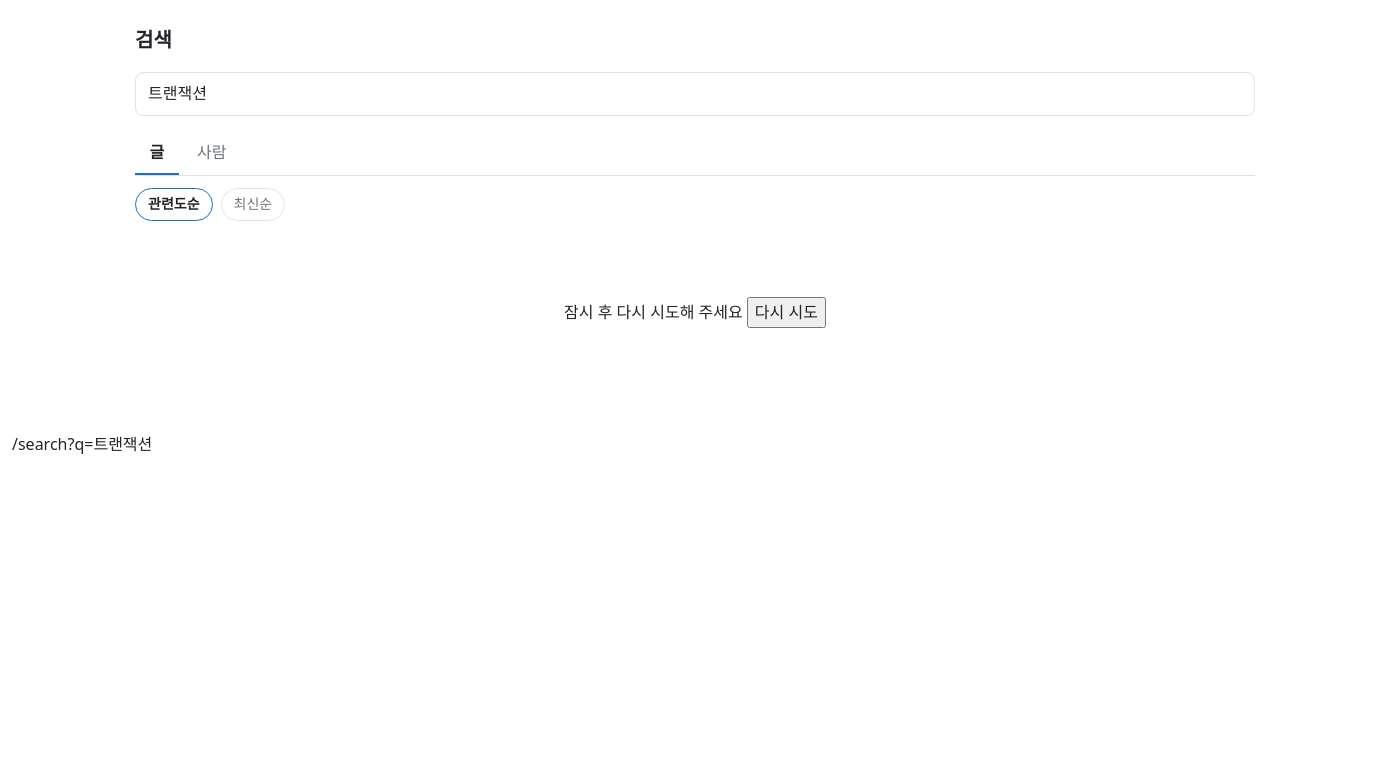
Test: SearchPage › 429면 "잠시 후 다시 시도해 주세요"와 [다시 시도]
Check: the text "잠시 후 다시 시도해 주세요 다시 시도" is shown, box [564, 297, 826, 328]
Click the button "다시 시도". click: x=786, y=312
box: [747, 297, 826, 328]
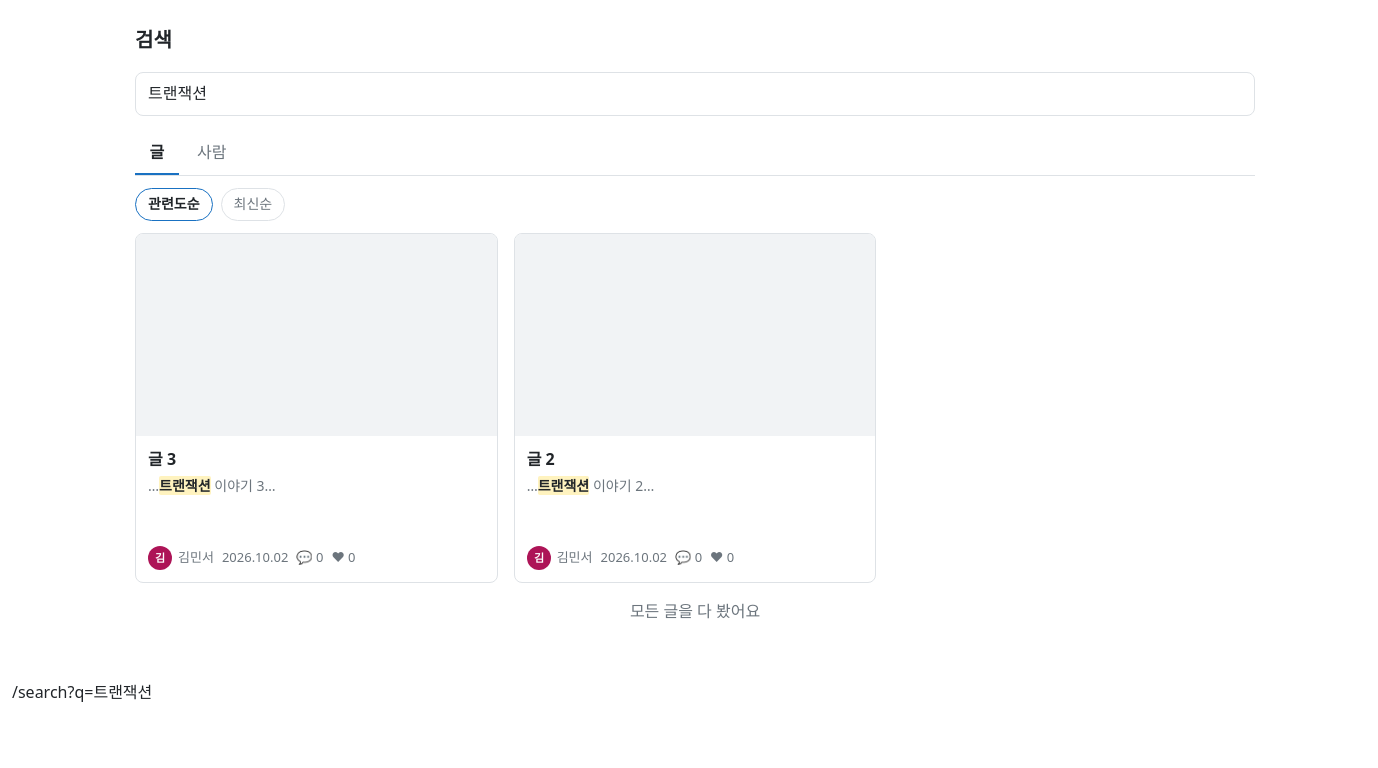
Check: the number of elements with test id "post-card" is 2, box [135, 233, 498, 583]; [514, 233, 876, 583]
